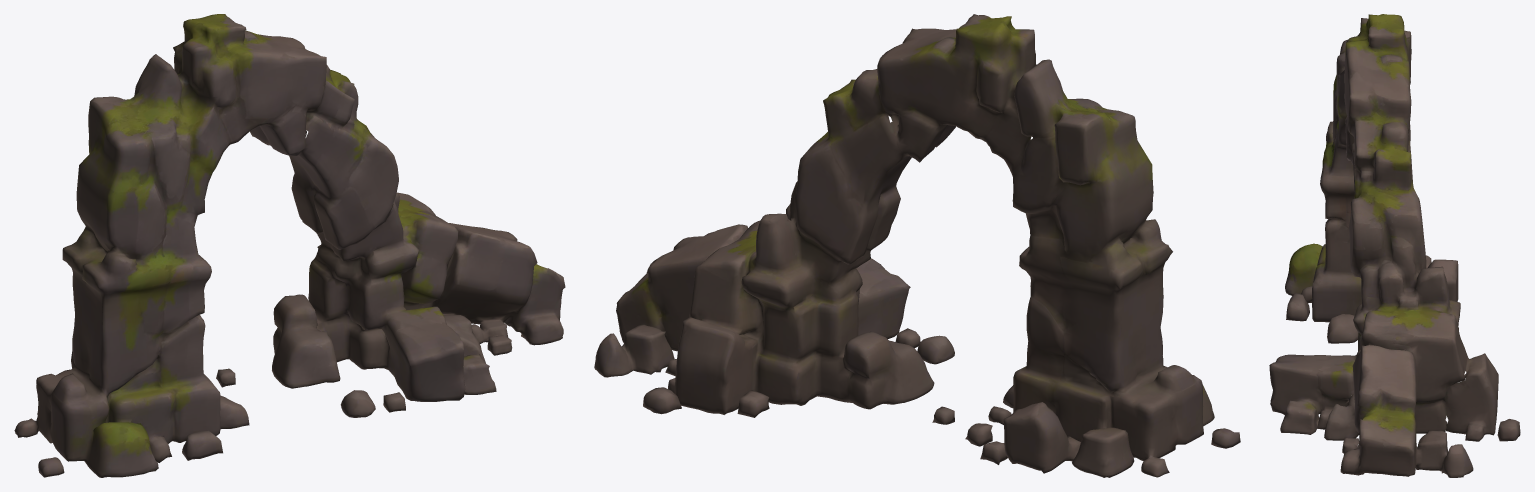
File: stone_arch.glb
3 renders of one model, left to right at view 1: azimuth 30°, elevation 25°; view 2: azimuth 150°, elevation 25°; view 3: azimuth 270°, elevation 25°, orthographic. The views are drawn at different scales.
Parts seen in each view (by area): view 1: tripo_node_b51d2b42; view 2: tripo_node_b51d2b42; view 3: tripo_node_b51d2b42.
Part boxes in pixels (x1=…): tripo_node_b51d2b42: x1=14, y1=14, x2=565, y2=477; tripo_node_b51d2b42: x1=594, y1=14, x2=1240, y2=477; tripo_node_b51d2b42: x1=1269, y1=14, x2=1520, y2=477.
Bounding box in the file's own units: 99.71 × 66.7 × 47.05.
Materials: 1 (1 with a texture image).
